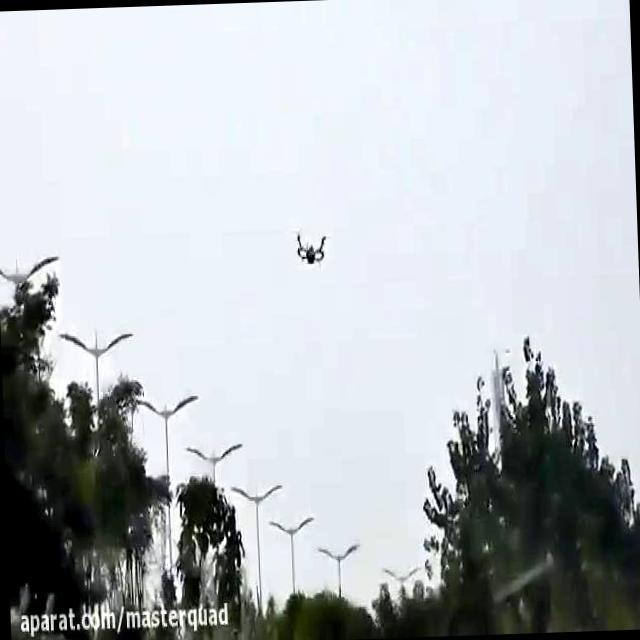drone: (289, 224, 330, 266)
